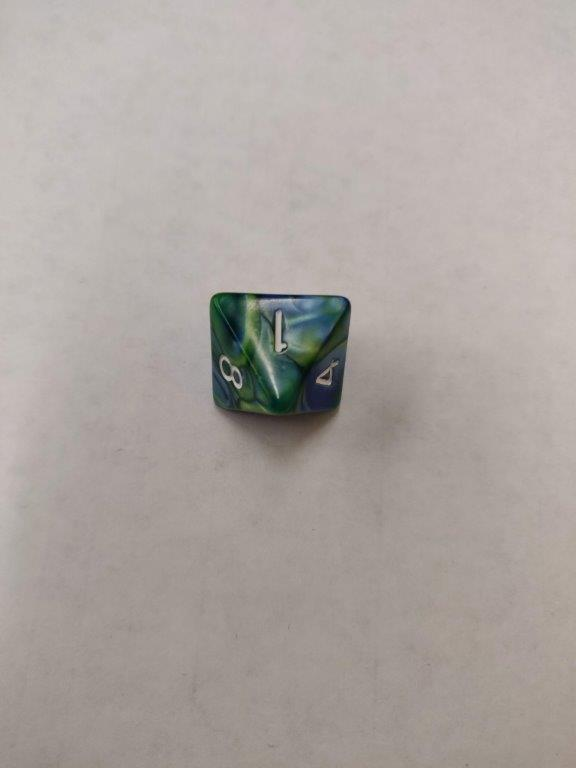d8-1: (210, 292, 348, 414)
